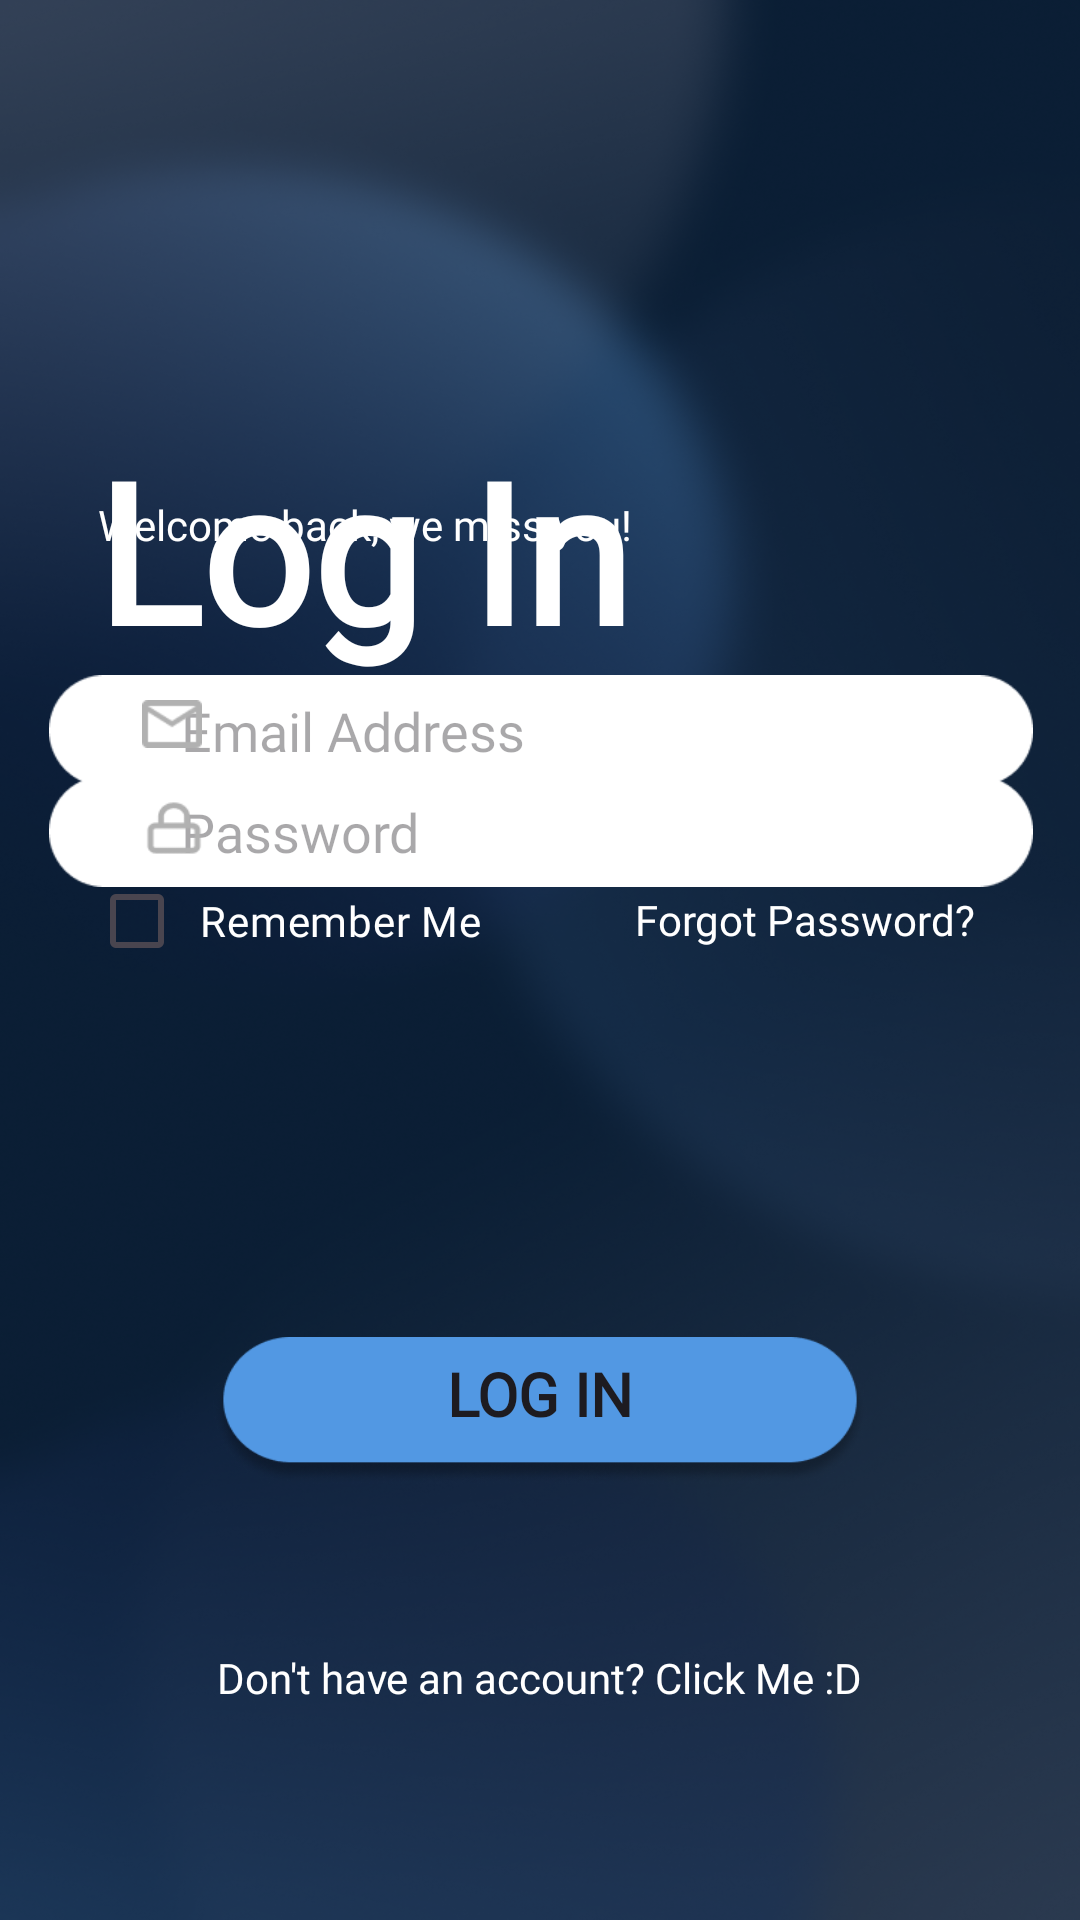

Named icons in this screenshot (1080 × 1920) and their bounding boxes, (x1, y1, x2, y2):
lock: (147, 802, 207, 854)
